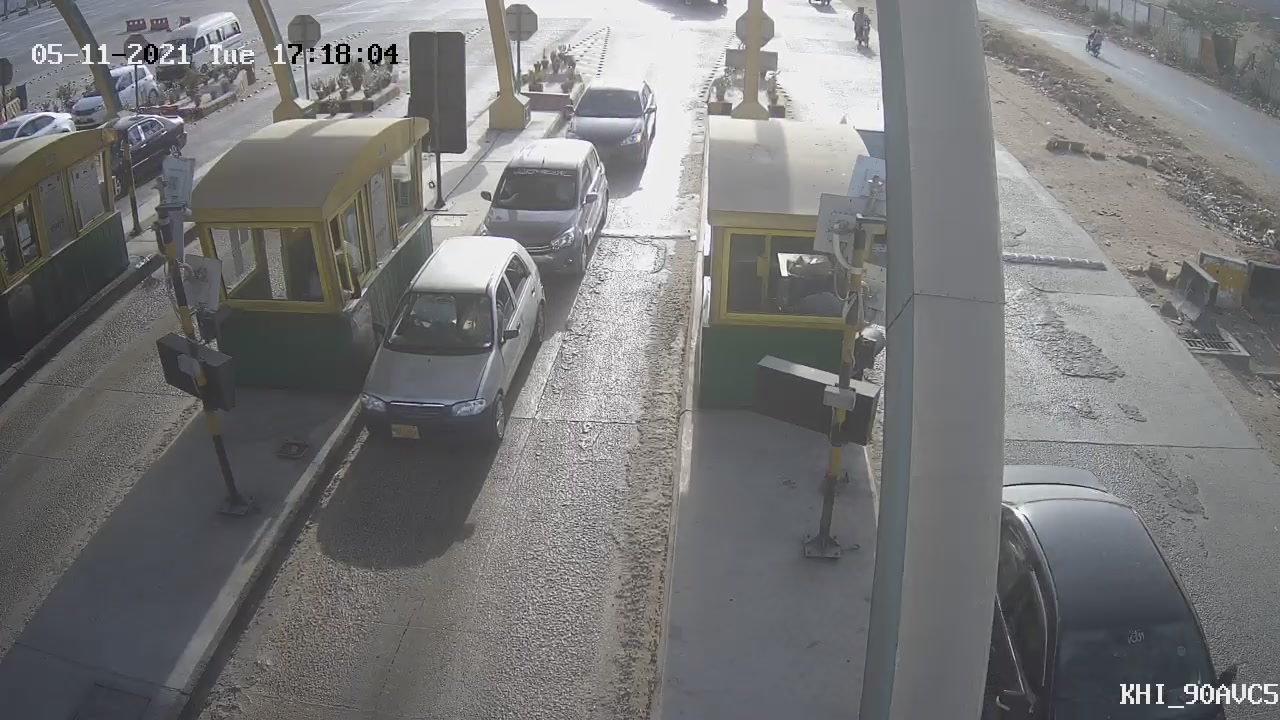F1: (331, 220, 563, 478), (460, 118, 627, 295)
